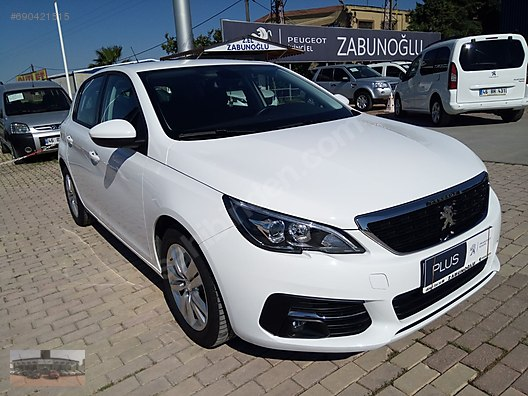peugeot: (55, 52, 502, 360)
